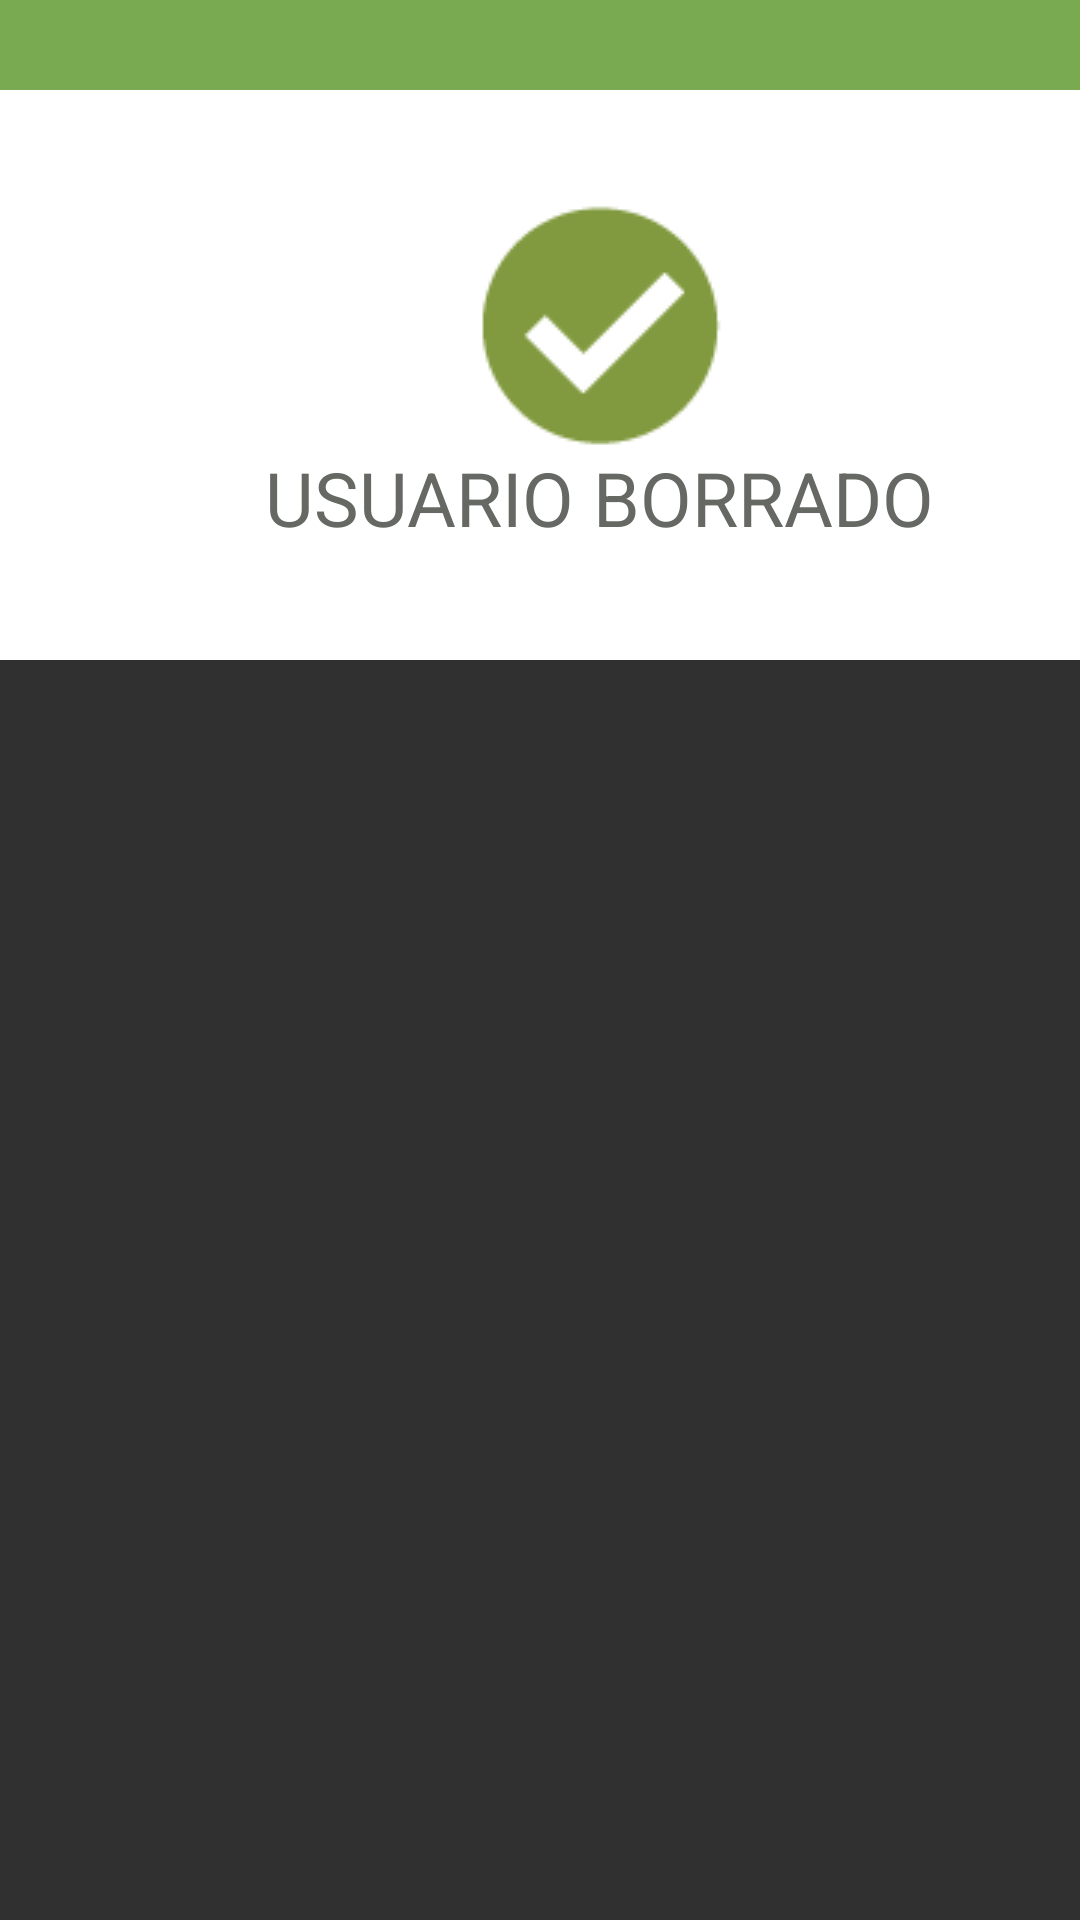

Where to tap for icons on this 1080 x 1920 app screen, as (x,y):
correcto: (601,325)
